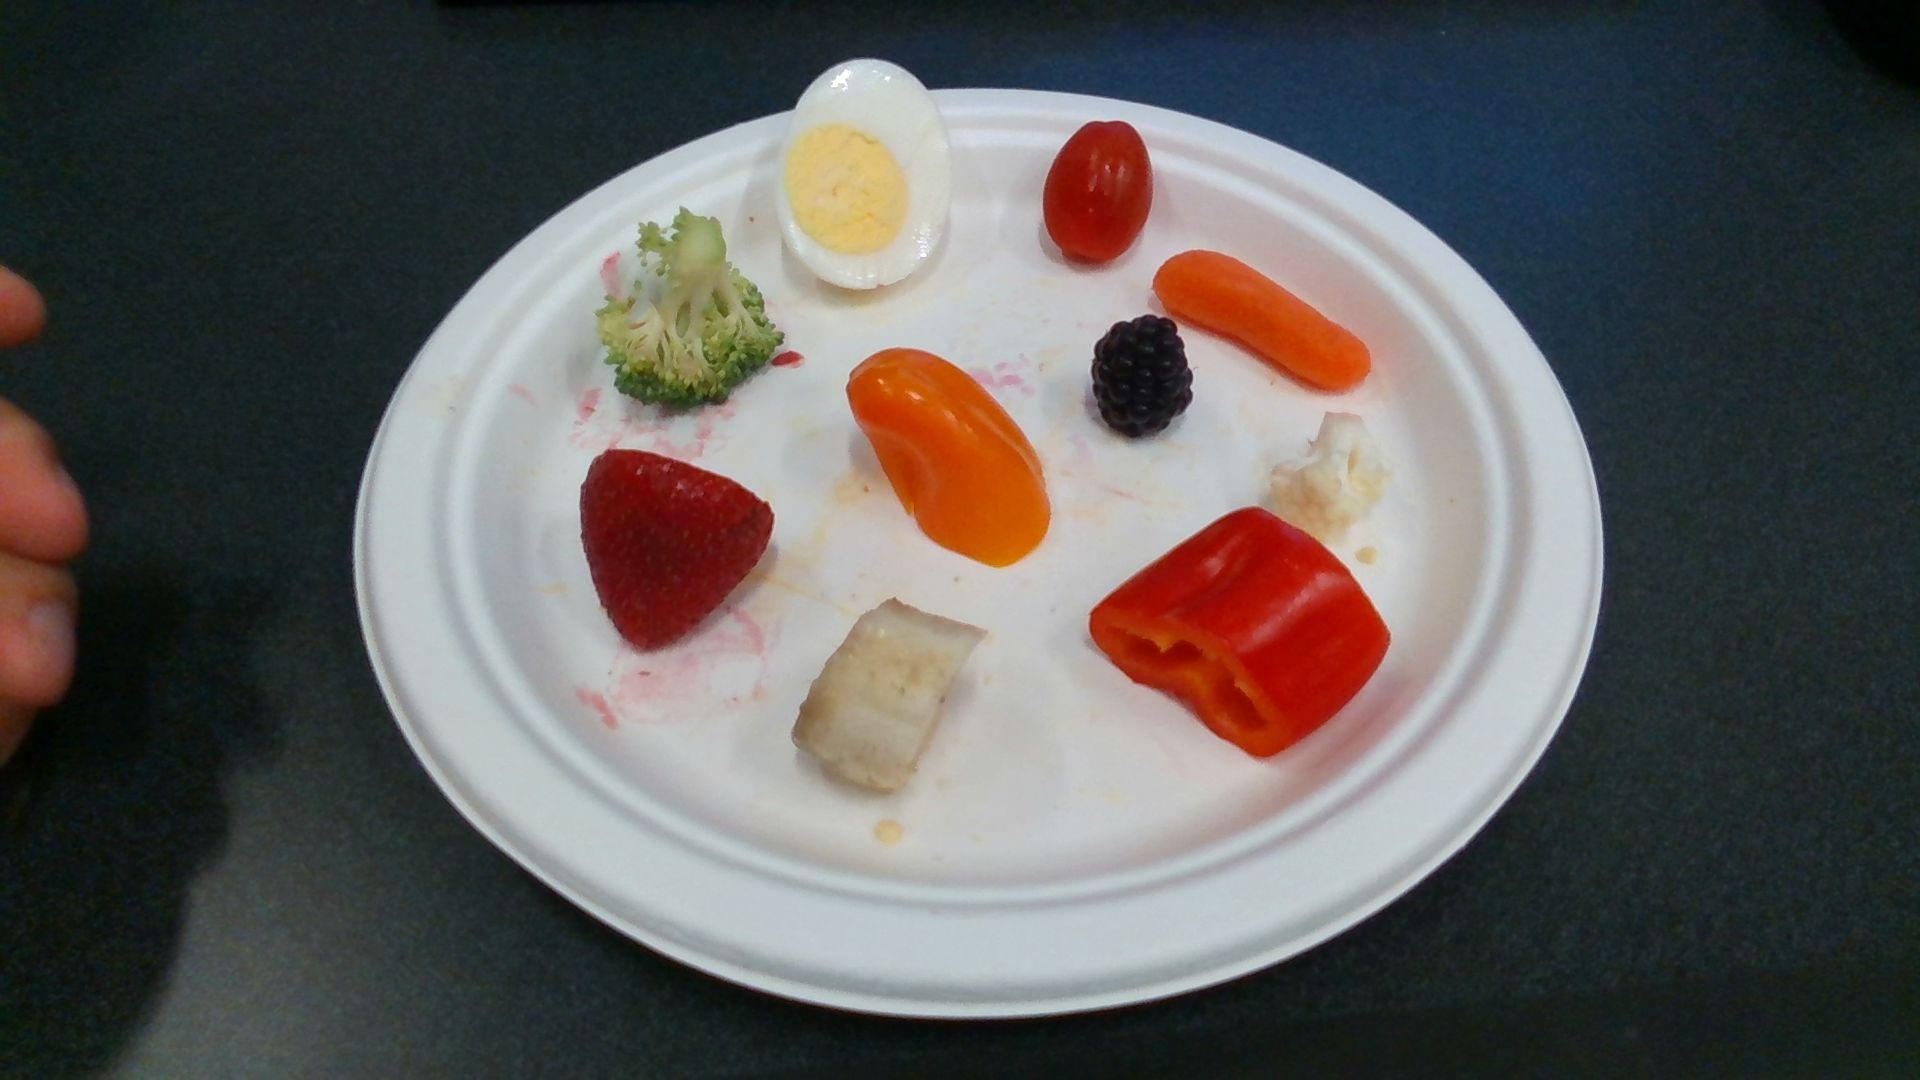banana: (794, 601, 980, 796)
bell_pepper: (1092, 506, 1389, 756), (847, 349, 1048, 568)
blackberry: (1095, 320, 1189, 436)
broccoli: (604, 215, 774, 404)
carrot: (1155, 248, 1371, 396)
cauliflower: (1270, 415, 1393, 526)
cherry_tomato: (1040, 120, 1150, 261)
egg: (777, 61, 953, 286)
strawberry: (582, 450, 771, 646)
